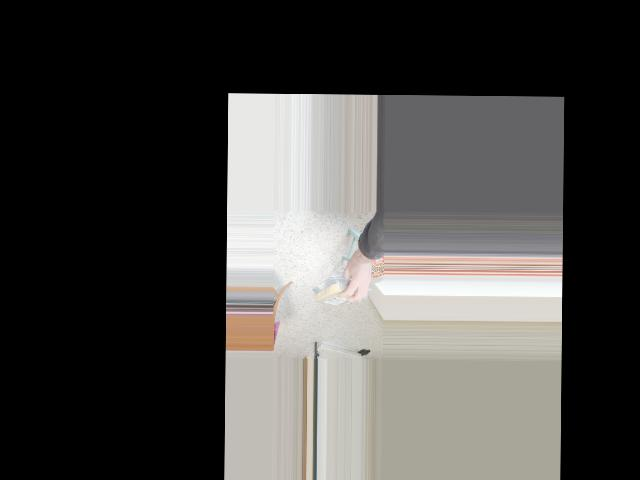cheese: (311, 275, 364, 308)
